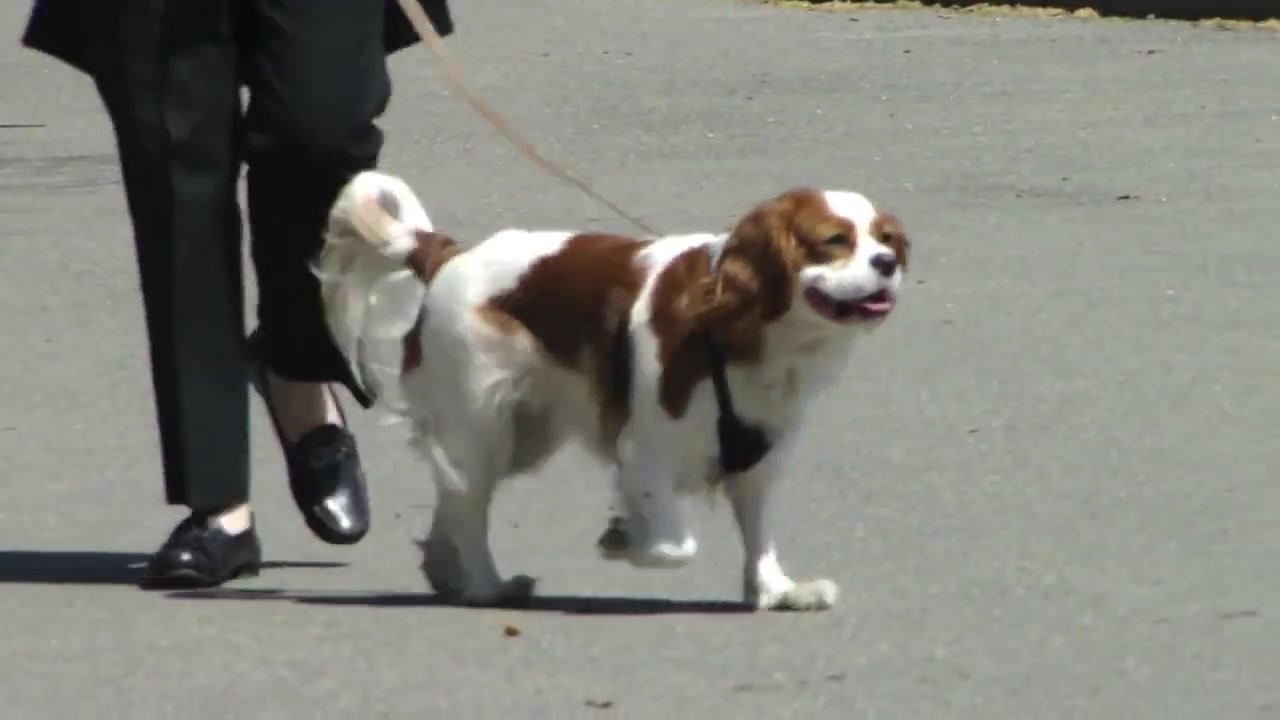dog: (315, 169, 911, 614)
